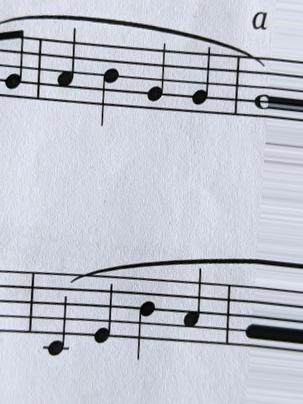note: (40, 267, 73, 359), (130, 275, 160, 366), (142, 40, 171, 123), (97, 40, 122, 130), (187, 43, 214, 125), (54, 27, 81, 107), (181, 264, 205, 350), (90, 272, 116, 348)
